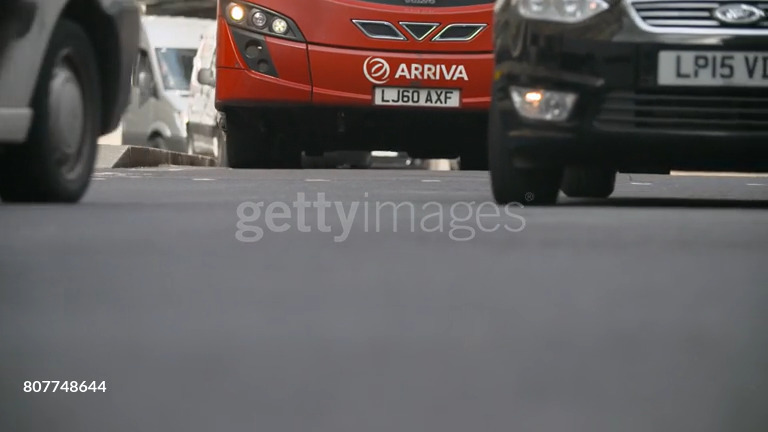car number: (655, 49, 765, 83), (373, 85, 460, 105)
